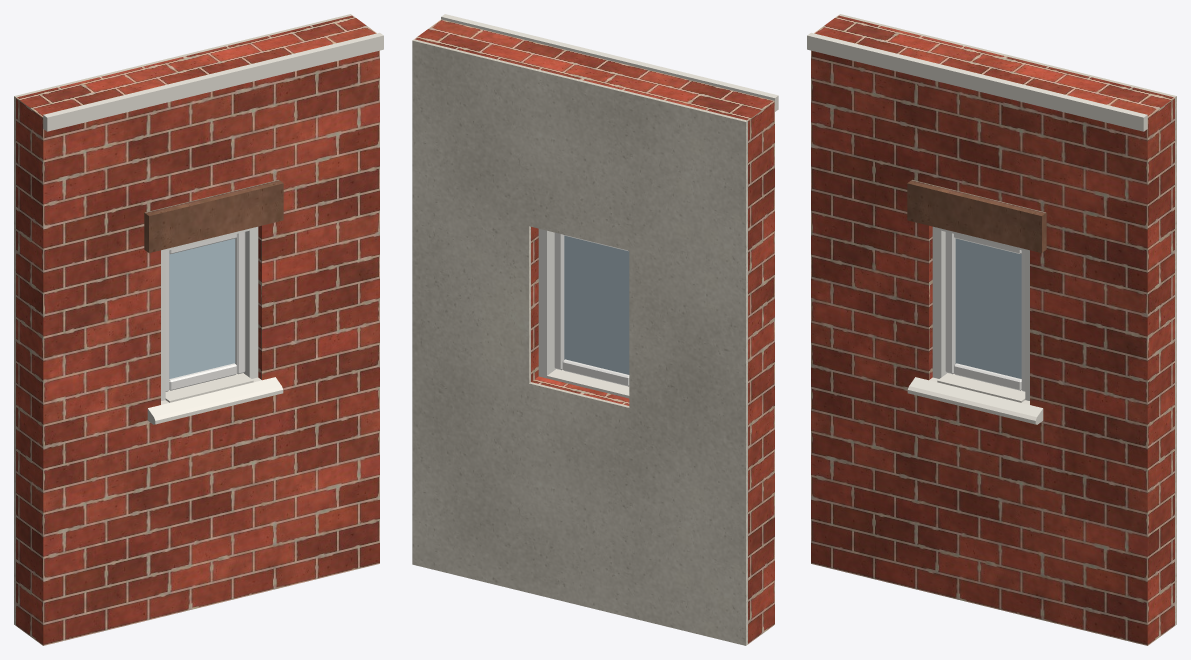
Rendered from wall_brick_small_window.glb.
3 views of the same model, side by side, from view 1: azimuth 30°, elevation 25°; view 2: azimuth 150°, elevation 25°; view 3: azimuth 330°, elevation 25° (orthographic).
Parts seen in each view (by area): view 1: wall_brick_small_window_brick, wall_brick_small_window_trim, wall_brick_small_window_glass, wall_brick_small_window_stone, wall_brick_small_window_sash, wall_brick_small_window_frame, wall_brick_small_window_plaster; view 2: wall_brick_small_window_plaster, wall_brick_small_window_brick, wall_brick_small_window_glass, wall_brick_small_window_trim, wall_brick_small_window_frame, wall_brick_small_window_sash; view 3: wall_brick_small_window_brick, wall_brick_small_window_trim, wall_brick_small_window_glass, wall_brick_small_window_stone, wall_brick_small_window_sash, wall_brick_small_window_frame, wall_brick_small_window_plaster.
Part boxes in pixels (box(x1,y1,x2,y2)): wall_brick_small_window_brick: box(16, 15, 379, 645); wall_brick_small_window_trim: box(43, 32, 383, 424); wall_brick_small_window_glass: box(169, 238, 235, 378); wall_brick_small_window_stone: box(144, 180, 283, 252); wall_brick_small_window_sash: box(165, 232, 245, 391); wall_brick_small_window_frame: box(161, 226, 258, 400); wall_brick_small_window_plaster: box(14, 14, 352, 625); wall_brick_small_window_plaster: box(412, 39, 747, 645); wall_brick_small_window_brick: box(414, 19, 774, 644); wall_brick_small_window_glass: box(564, 235, 629, 374); wall_brick_small_window_trim: box(441, 14, 778, 398); wall_brick_small_window_frame: box(538, 229, 555, 378); wall_brick_small_window_sash: box(554, 232, 629, 386); wall_brick_small_window_brick: box(811, 15, 1174, 645); wall_brick_small_window_trim: box(807, 32, 1147, 424); wall_brick_small_window_glass: box(955, 238, 1021, 378); wall_brick_small_window_stone: box(907, 180, 1046, 252); wall_brick_small_window_sash: box(945, 232, 1025, 391); wall_brick_small_window_frame: box(932, 226, 1029, 400); wall_brick_small_window_plaster: box(838, 14, 1176, 625).
Bounding box in the file's own units: 2 × 3.02 × 0.38.
7 materials, 3 textured.
